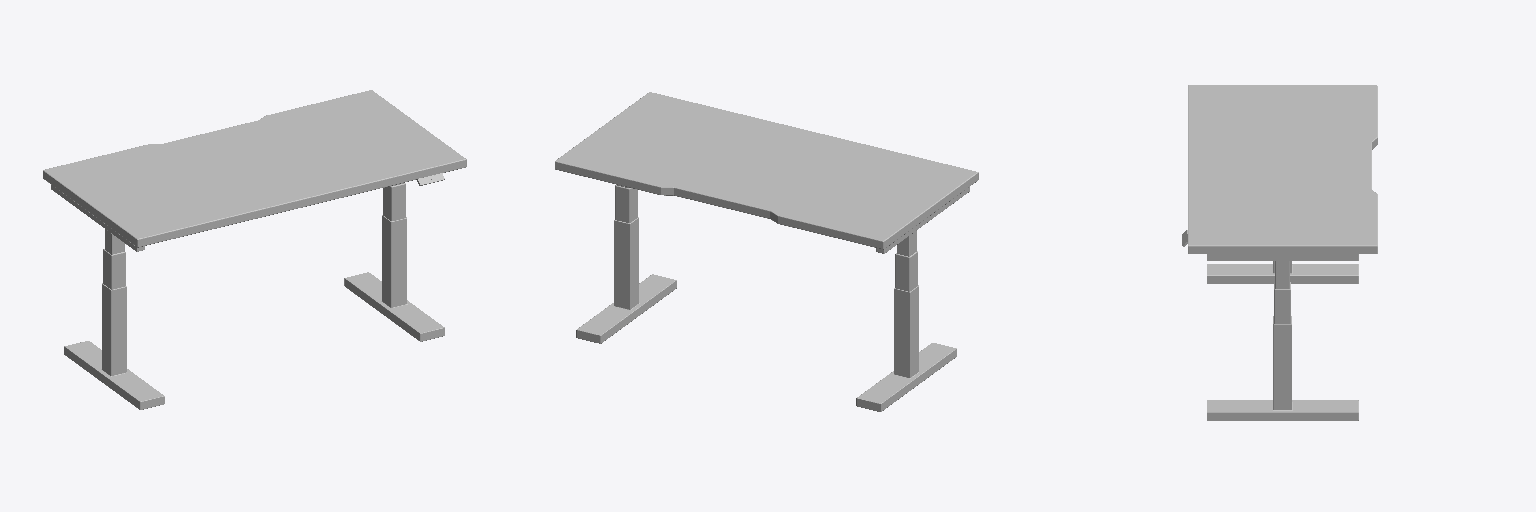
File: table.obj
3 renders of one model, left to right at view 1: azimuth 30°, elevation 25°; view 2: azimuth 150°, elevation 25°; view 3: azimuth 270°, elevation 25°, orthographic.
Visible parts, largest first — view 1: desktop, leg_bottom.R, leg_bottom.L, leg_middle.L, leg_middle.R; view 2: desktop, leg_bottom.R, leg_bottom.L, leg_middle.L, leg_middle.R; view 3: desktop, leg_bottom.R, leg_bottom.L, beam, leg_middle.R.
Part boxes in pixels (x1,y1,x2,y2): desktop: (43,90,466,247); leg_bottom.R: (344,215,444,341); leg_bottom.L: (64,283,164,409); leg_middle.L: (103,249,125,289); leg_middle.R: (383,183,405,220); desktop: (555,92,978,249); leg_bottom.R: (576,217,676,343); leg_bottom.L: (856,285,956,411); leg_middle.L: (895,251,917,291); leg_middle.R: (615,185,637,222); desktop: (1188,85,1377,253); leg_bottom.R: (1207,316,1358,420); leg_bottom.L: (1207,261,1358,283); beam: (1207,254,1358,260); leg_middle.R: (1274,282,1290,323).
Bounding box in the file's own units: 1.6 × 0.8403 × 0.823.